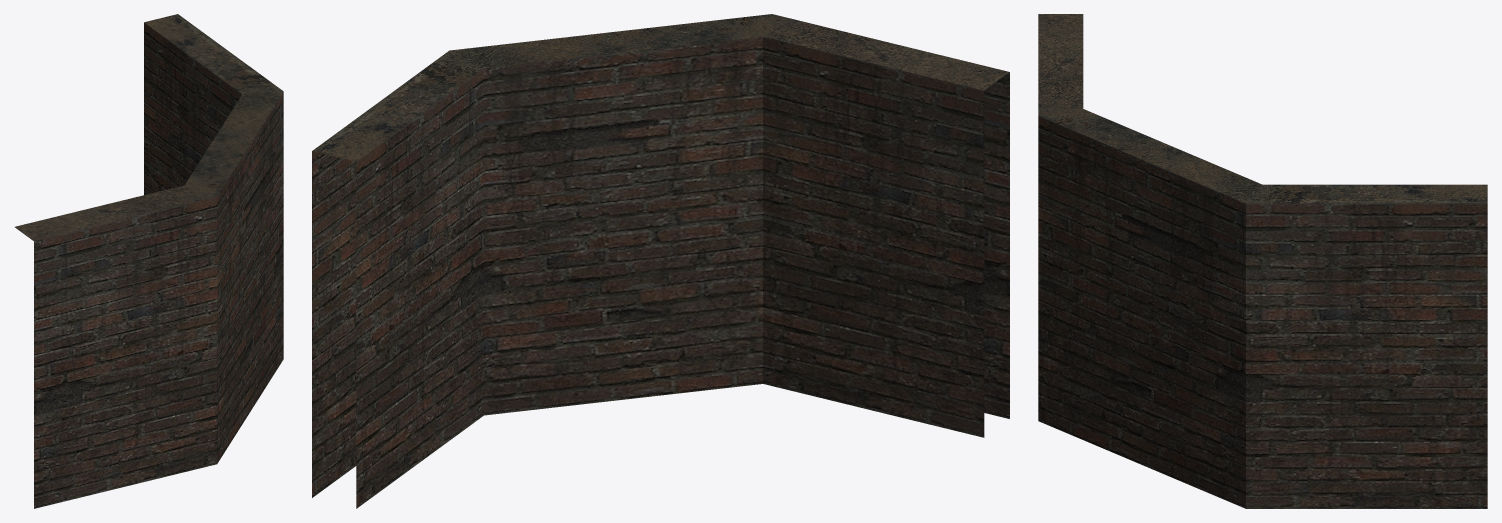
The model's file is wall_hs_1_m2a_1.dae.
3 views of the same model, side by side, from view 1: azimuth 30°, elevation 25°; view 2: azimuth 150°, elevation 25°; view 3: azimuth 270°, elevation 25° (orthographic). The views are drawn at different scales.
Visible parts, largest first — view 1: wall_hs_1_m2a_1; view 2: wall_hs_1_m2a_1; view 3: wall_hs_1_m2a_1.
Part boxes in pixels (x1,y1,x2,y2): wall_hs_1_m2a_1: (15, 14, 283, 508); wall_hs_1_m2a_1: (312, 14, 1009, 508); wall_hs_1_m2a_1: (1038, 14, 1487, 508).
Bounding box in the file's own units: 4 × 4 × 3.
2 materials, 2 textured.
